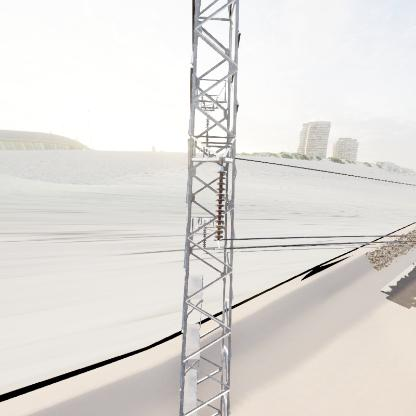insulator: (215, 169, 228, 243)
